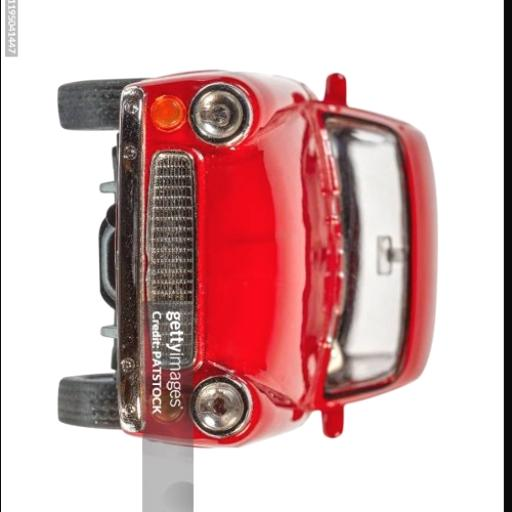hatchback: (58, 71, 435, 446)
